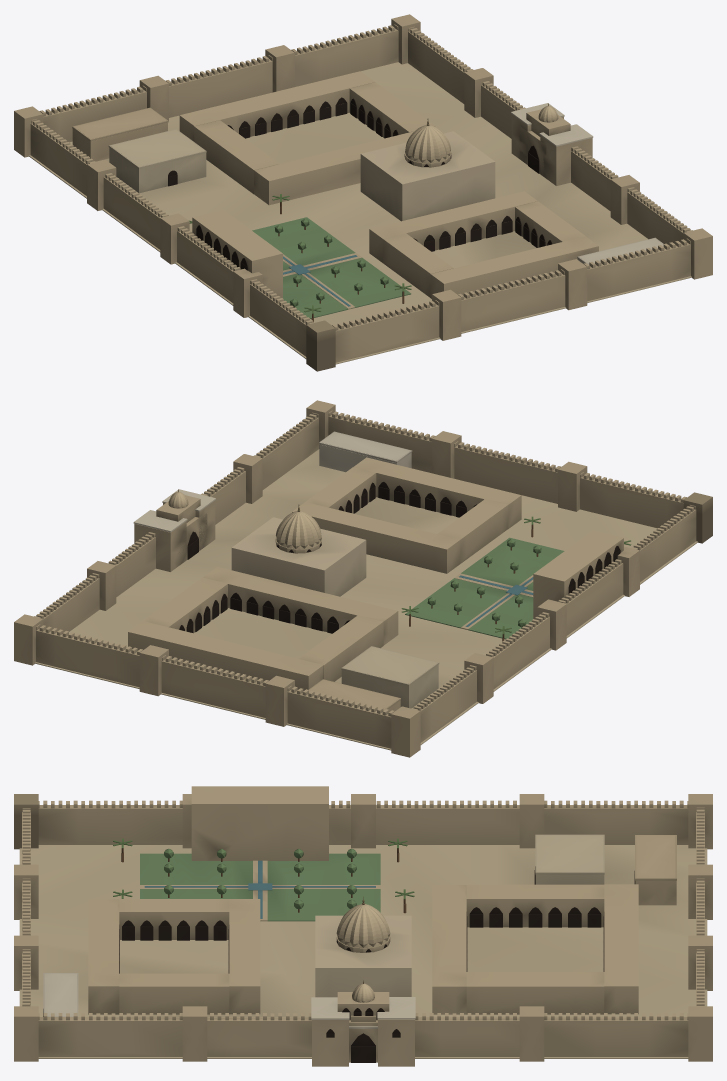
The model's file is western-palace.glb.
The picture shows the model from 3 angles, top to bottom: view 1: azimuth 30°, elevation 25°; view 2: azimuth 150°, elevation 25°; view 3: azimuth 270°, elevation 25°; orthographic projection. The views are drawn at different scales.
Visible parts, largest first — view 1: p1_walls, p2_courts, p0_ground, p3_domes; view 2: p1_walls, p2_courts, p0_ground, p3_domes; view 3: p1_walls, p2_courts, p0_ground, p3_domes.
Boxes of the visible parts, <box> form: p1_walls: <box>14,14,712,371</box>; p2_courts: <box>72,71,663,318</box>; p0_ground: <box>29,62,691,364</box>; p3_domes: <box>189,118,451,318</box>; p1_walls: <box>14,400,712,757</box>; p2_courts: <box>128,431,564,711</box>; p0_ground: <box>35,449,697,750</box>; p3_domes: <box>275,504,631,638</box>; p1_walls: <box>14,794,712,1066</box>; p2_courts: <box>43,834,676,1016</box>; p0_ground: <box>19,845,707,1058</box>; p3_domes: <box>113,786,414,952</box>.
Size of the model in its own units: 157 by 28.9 by 203.
